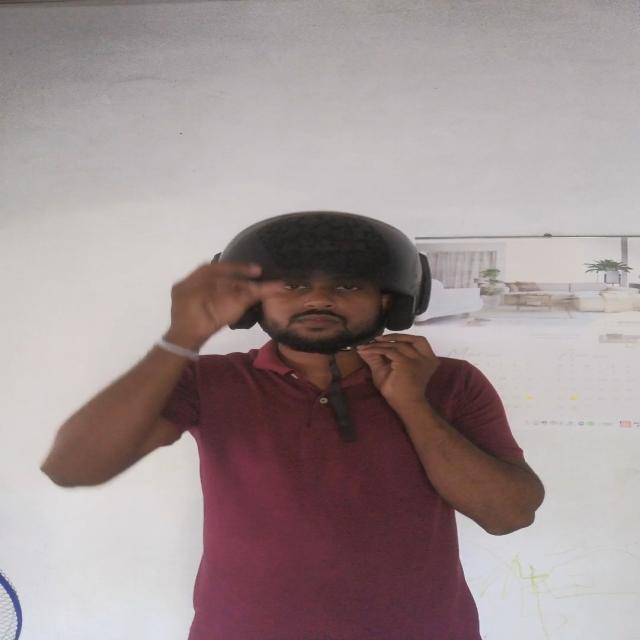Helmet_Wearer: (172, 206, 461, 394)
